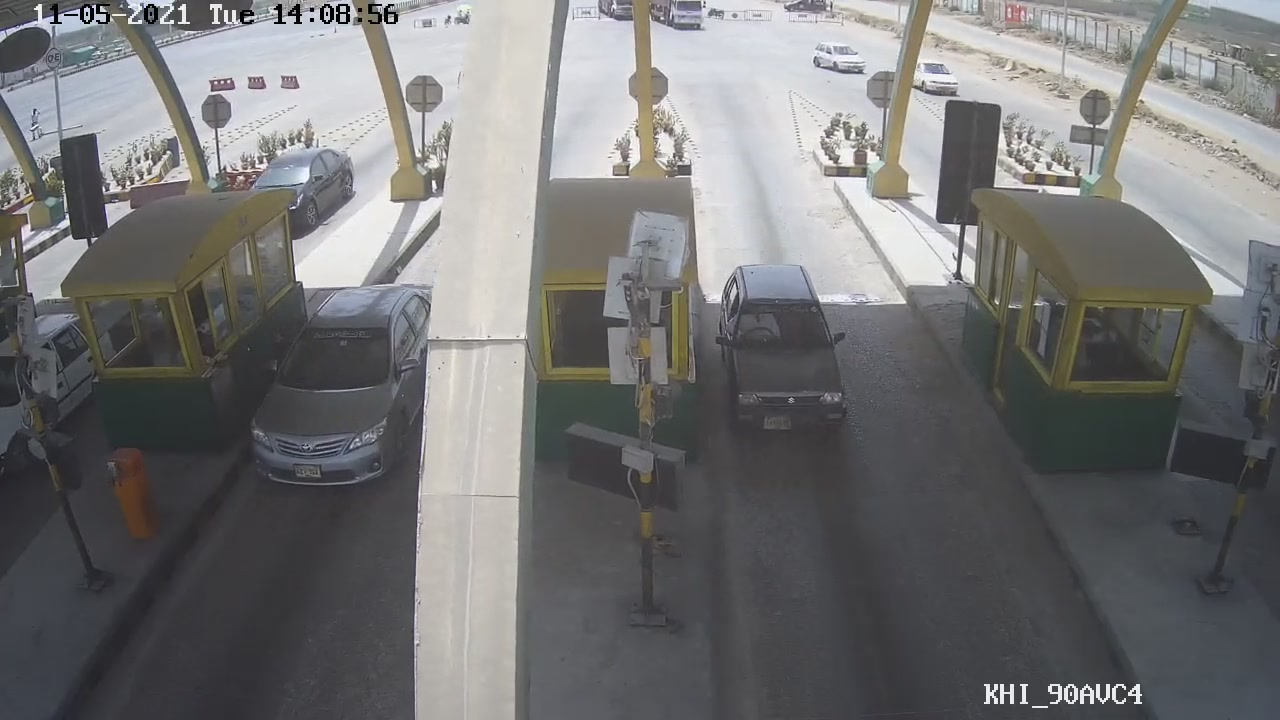F1: (715, 259, 859, 457)
